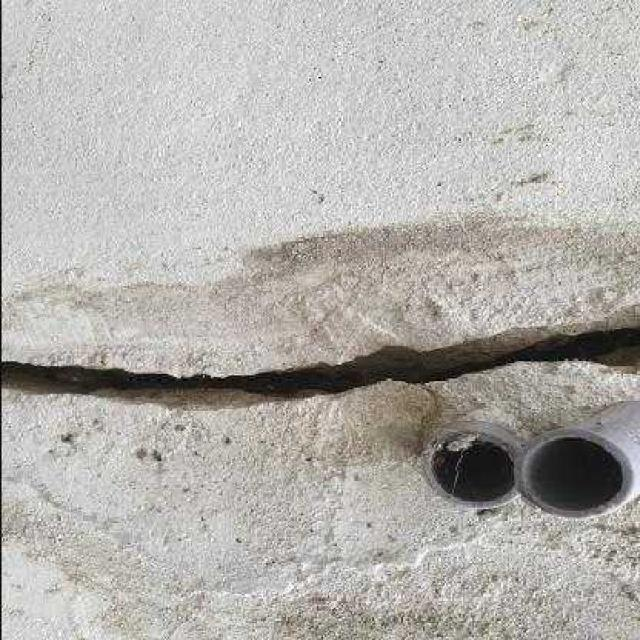D00: (1, 305, 640, 411)
